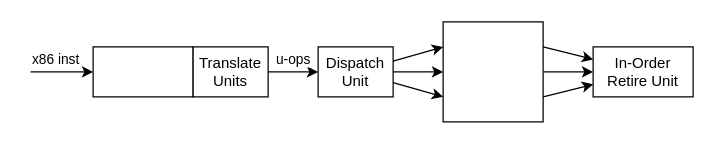
Some shapes in this 715 by 144 pixel diagram are drawn without their labels. The shapes that lost their labels are listed below. From the top down, each one's centre as x and y in pixels, then its label:
At (x=142, y=71): "Superscalar Decode Units".
At (x=492, y=71): "Functional Units".
